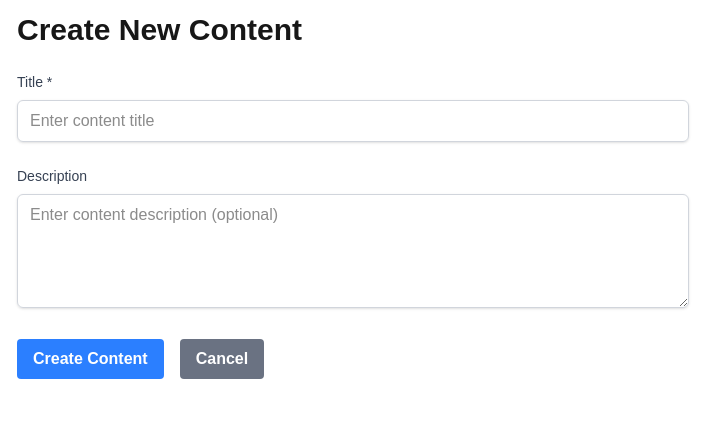
Test: ContentForm › validates required title field
Click the button "Create Content".
click(90, 359)  # box [17,339,164,379]
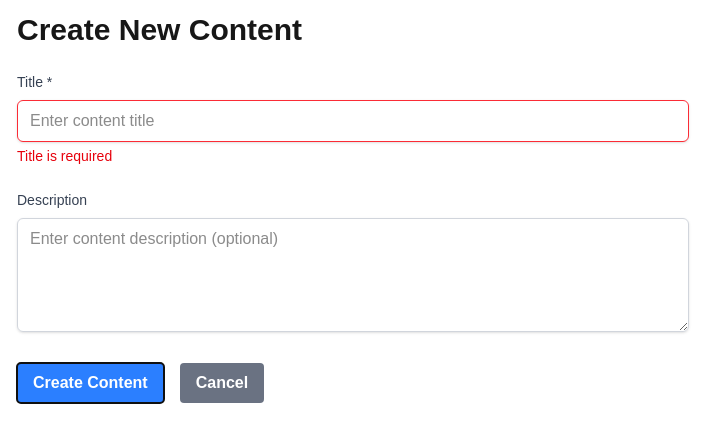
Expected: the text "Title is required" is shown, [17,148,112,164]
